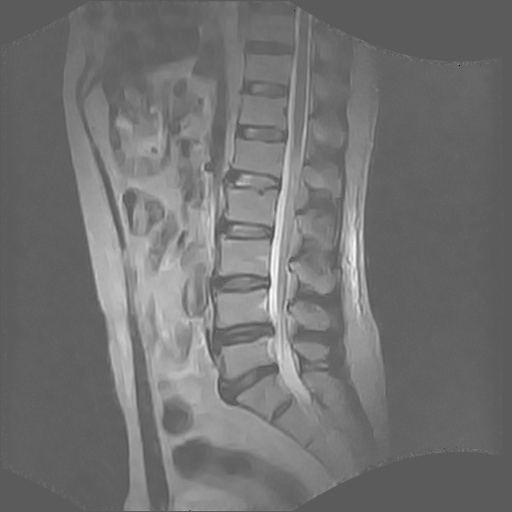L1,v2: (227, 133, 290, 172)
L1-L2,v1: (218, 158, 284, 201)
L2,v2: (211, 181, 288, 225)
L2-L3,v1: (208, 205, 281, 251)
L3,v2: (207, 231, 281, 273)
L3-L4,v2: (208, 258, 276, 304)
L4,v2: (211, 286, 272, 330)
L4-L5,v2: (208, 308, 277, 353)
L5,v2: (209, 337, 281, 378)
L5-S1,v2: (211, 353, 286, 399)
T12-L1,v2: (224, 111, 295, 151)
